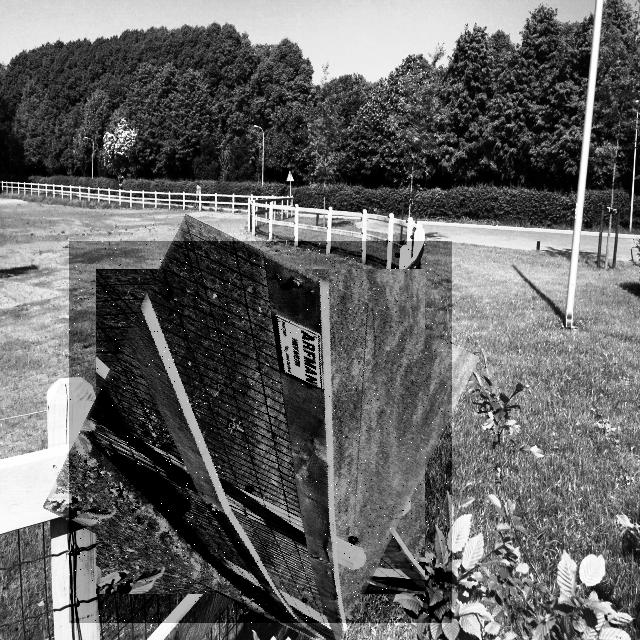fences: (69, 241, 452, 623)
